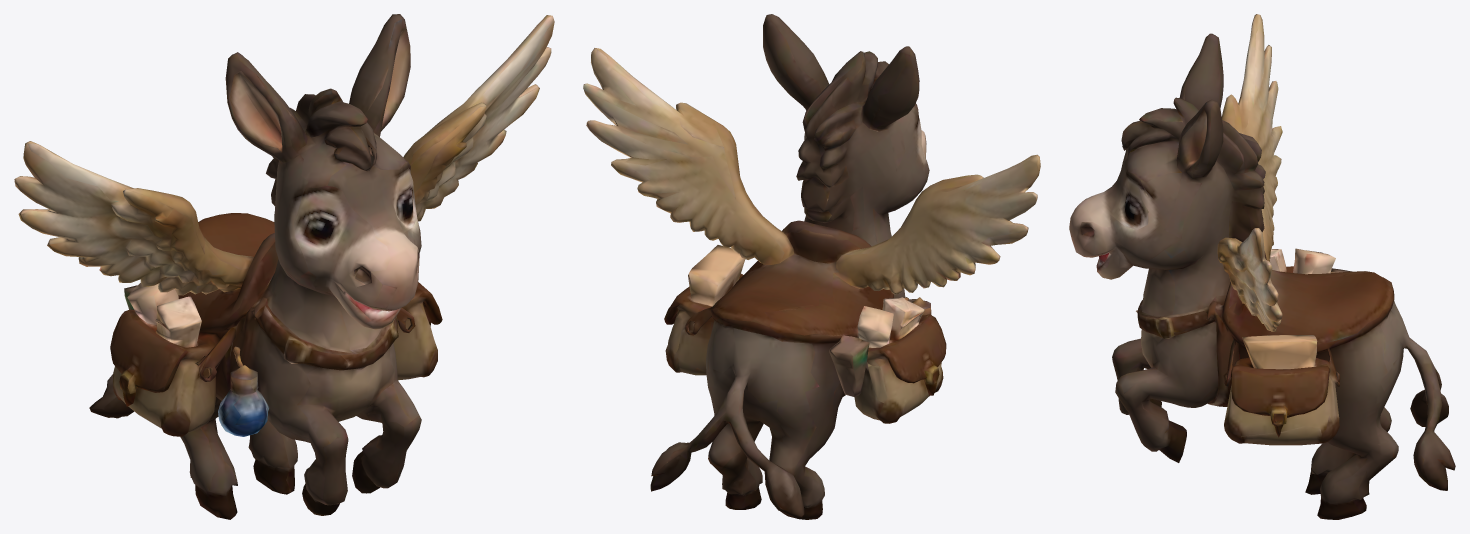
Rendered from model-courier.glb.
The picture shows the model from 3 angles, left to right: view 1: azimuth 30°, elevation 25°; view 2: azimuth 150°, elevation 25°; view 3: azimuth 270°, elevation 25°; orthographic projection. The views are drawn at different scales.
Parts seen in each view (by area): view 1: geometry_0; view 2: geometry_0; view 3: geometry_0.
Part boxes in pixels (x1,y1,x2,y2): geometry_0: [14, 14, 554, 519]; geometry_0: [583, 14, 1040, 519]; geometry_0: [1069, 14, 1455, 519].
Bounding box in the file's own units: 0.9965 × 0.9223 × 0.737.
Materials: 1 (1 with a texture image).
